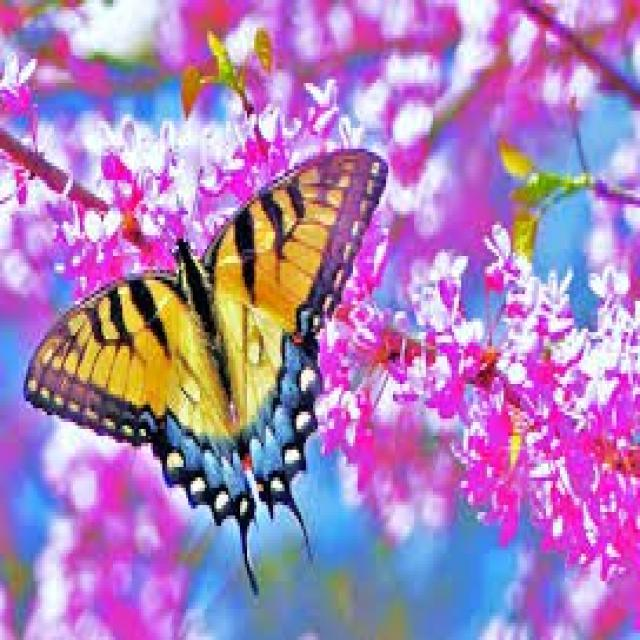butterfly: (58, 196, 380, 539)
